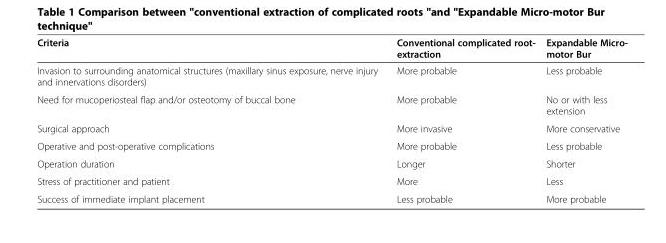table: (36, 36, 626, 204)
table column: (36, 36, 386, 204), (386, 36, 540, 204), (540, 36, 626, 204)
table column header: (36, 36, 626, 61)
table row: (36, 61, 626, 90), (36, 90, 626, 119), (36, 36, 626, 61), (36, 136, 626, 154), (36, 154, 626, 172), (36, 119, 626, 136), (36, 172, 626, 189), (36, 189, 626, 204)
